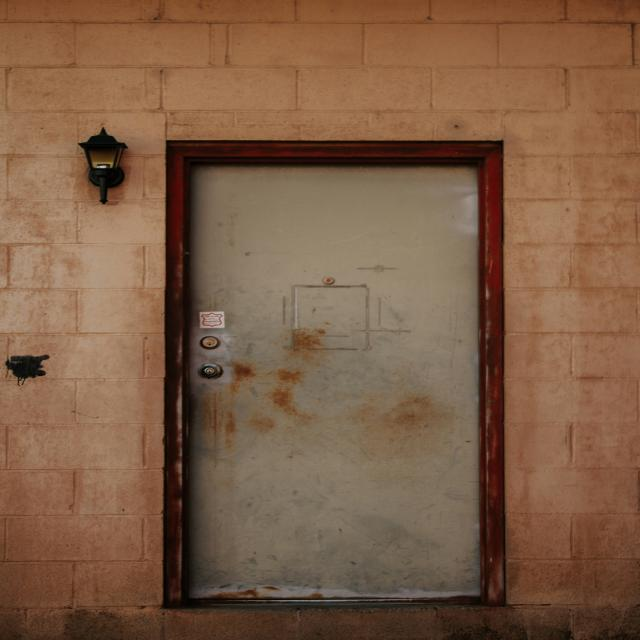door-knob: (199, 364, 223, 379)
